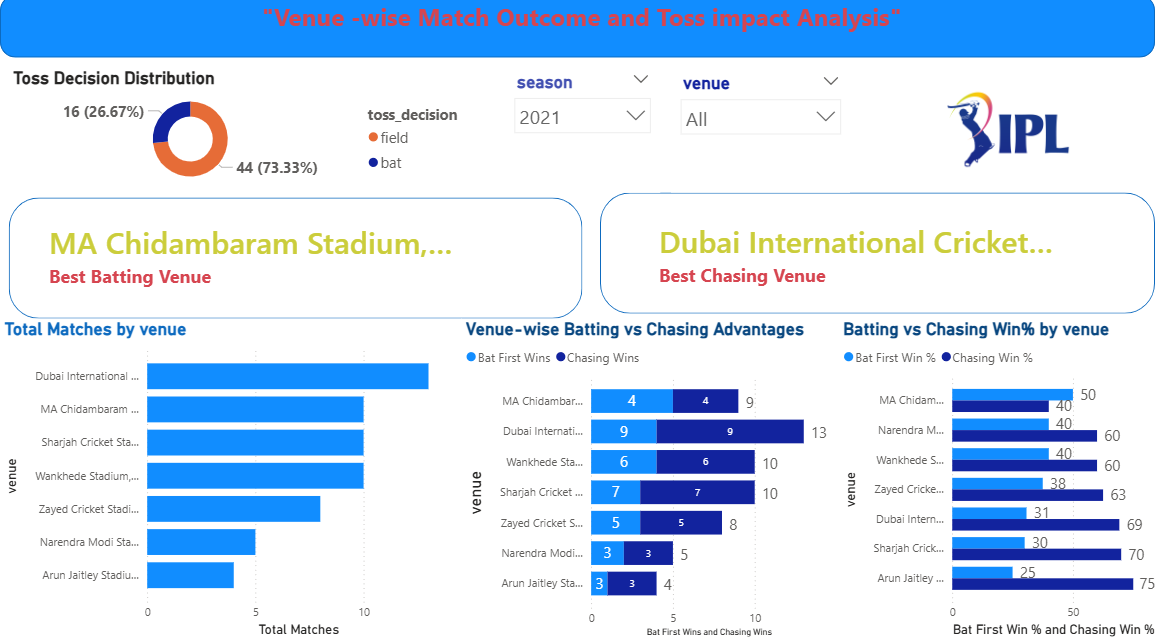

This screenshot's page, from the dashboard's own definition file:
{"tool":"powerbi","page":{"name":"Venue Analysis","canvas":[1280,720],"ordinal":1},"visuals":[{"type":"shape","box":[0,89.2,606.5,137.2],"z":0},{"type":"shape","box":[9.6,233.3,629.8,133.1],"z":1000},{"type":"shape","box":[0,11,1267.9,68.6],"z":2000},{"type":"textbox","box":[9.6,11,1258.3,68.6],"z":3000},{"type":"clusteredBarChart","fields":{"Category":["ipl_matches_data.venue"],"Y":["ipl_matches_data.Total Matches"]},"box":[0,366.4,506.3,354],"z":4000},{"type":"barChart","title":"Venue-wise Batting vs Chasing Advantages","fields":{"Category":["ipl_matches_data.venue"],"Y":["ipl_matches_data.Bat First Wins","ipl_matches_data.Chasing Wins"]},"box":[506.3,366.4,414.4,354],"z":5000},{"type":"cardVisual","fields":{"Data":["ipl_matches_data.Best Batting Venue"]},"box":[24.7,240.1,581.8,111.1],"z":6000},{"type":"shape","box":[658.7,227.8,609.3,133.1],"z":7000},{"type":"cardVisual","fields":{"Data":["ipl_matches_data.Best Chasing Venue"]},"box":[694.3,238.8,551.6,111.1],"z":8000},{"type":"donutChart","title":"Toss Decision Distribution","fields":{"Category":["ipl_matches_data.toss_decision"],"Y":["ipl_matches_data.Total Matches"]},"box":[606.5,91.9,356.8,135.8],"z":9000},{"type":"slicer","fields":{"Values":["ipl_matches_data.season"]},"box":[963.3,89.2,137.2,137.2],"z":10000},{"type":"slicer","fields":{"Values":["ipl_matches_data.venue"]},"box":[1100.5,90.6,179.8,135.8],"z":11000},{"type":"clusteredBarChart","title":"Batting vs Chasing Win% by venue","fields":{"Category":["ipl_matches_data.venue"],"Y":["ipl_matches_data.Bat First Win %","ipl_matches_data.Chasing Win %"]},"box":[920.8,366.4,359.5,354],"z":12000},{"type":"card","title":"\"Winning Strategy insight\"","fields":{"Values":["ipl_matches_data.Insight Text"]},"box":[9.6,91.9,569.5,124.9],"z":13000}]}

Visuals, with their boxes in screenshot pixels (x1, y1, x2, y2), scaled from the page's 1280x720 canvas onto the 1163x640 screenshot:
shape: BBox(0, 79, 551, 201)
shape: BBox(9, 207, 581, 326)
shape: BBox(0, 10, 1152, 71)
textbox: BBox(9, 10, 1152, 71)
clusteredBarChart - ipl_matches_data.venue x ipl_matches_data.Total Matches: BBox(0, 326, 460, 639)
"Venue-wise Batting vs Chasing Advantages" barChart: BBox(460, 326, 837, 639)
cardVisual - ipl_matches_data.Best Batting Venue: BBox(22, 213, 551, 312)
shape: BBox(598, 202, 1152, 321)
cardVisual - ipl_matches_data.Best Chasing Venue: BBox(631, 212, 1132, 311)
"Toss Decision Distribution" donutChart: BBox(551, 82, 875, 202)
slicer - ipl_matches_data.season: BBox(875, 79, 1000, 201)
slicer - ipl_matches_data.venue: BBox(1000, 81, 1162, 201)
"Batting vs Chasing Win% by venue" clusteredBarChart: BBox(837, 326, 1162, 639)
""Winning Strategy insight"" card: BBox(9, 82, 526, 193)
